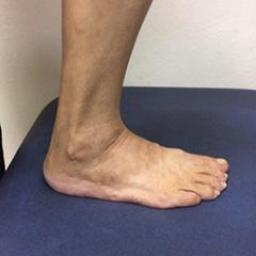Lateral View -Right Foot-: (37, 104, 235, 218)
